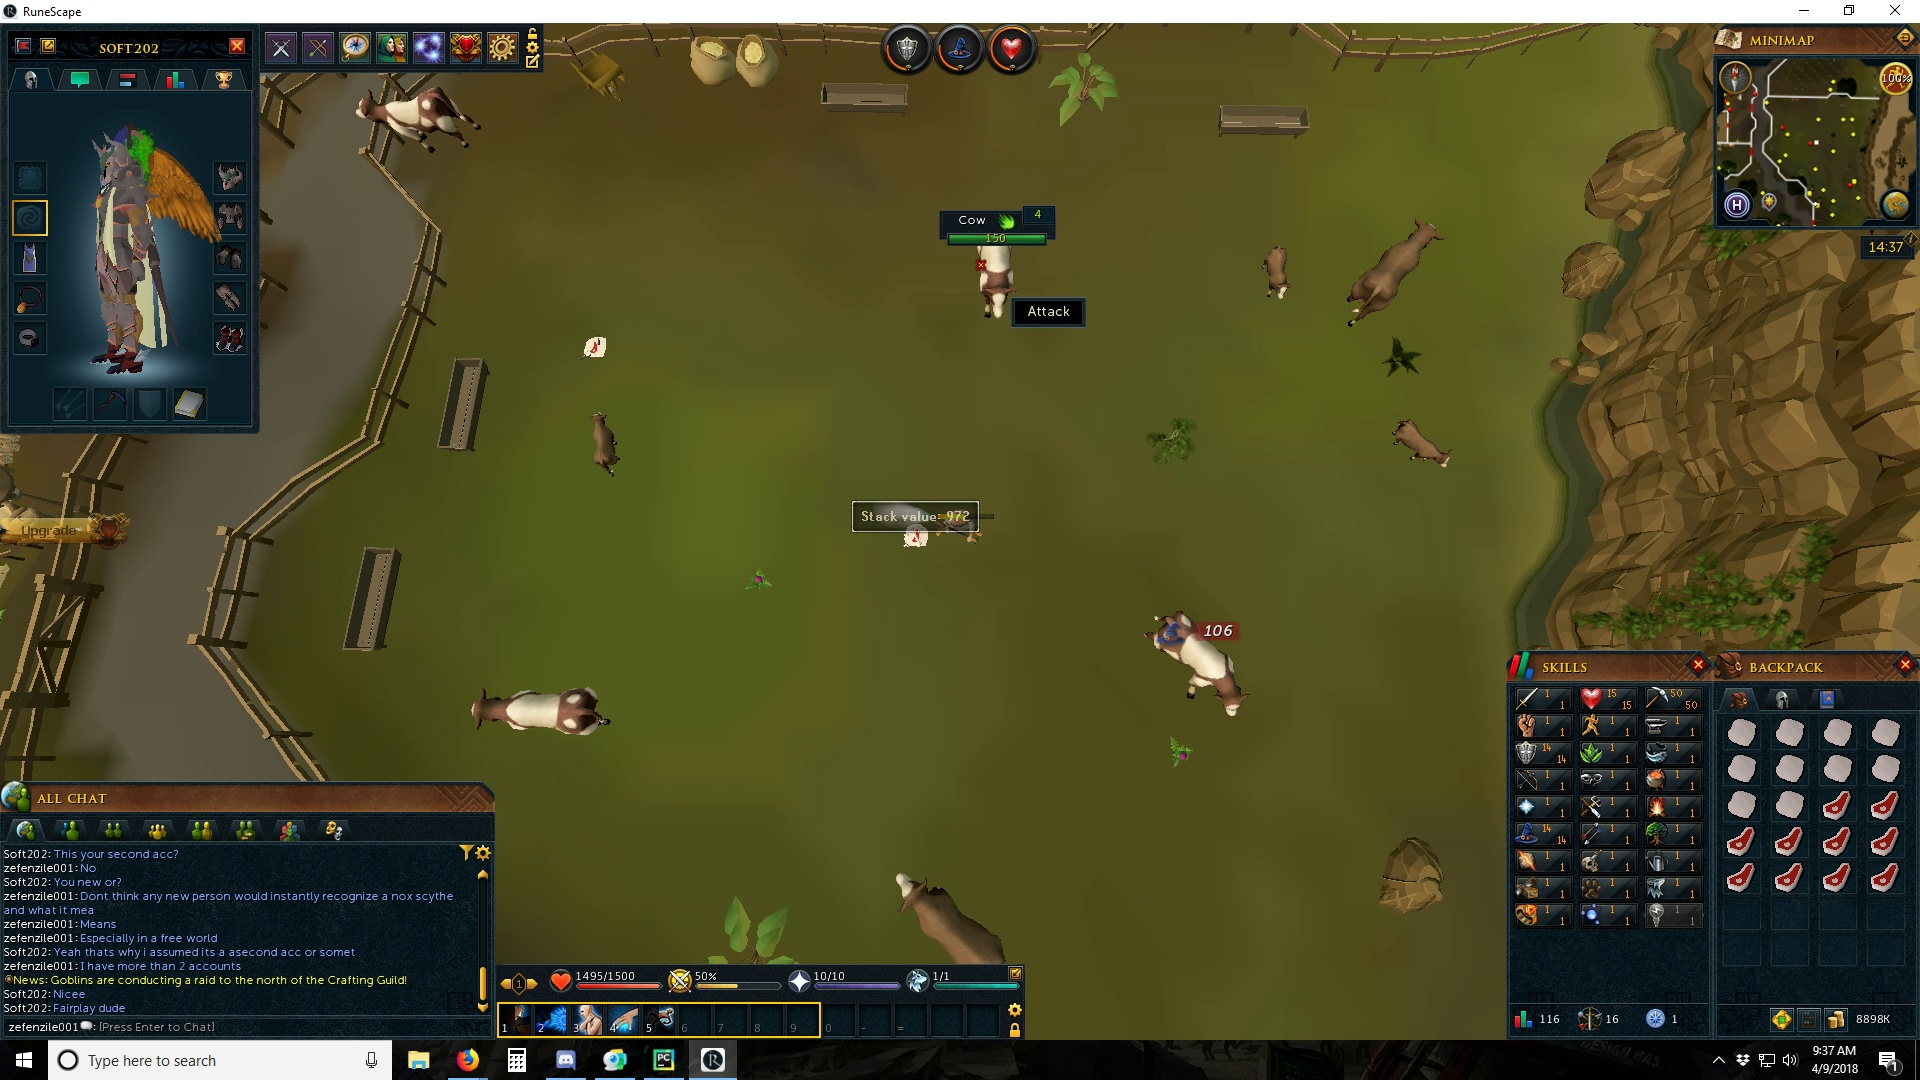calf: (1393, 415, 1458, 473), (587, 407, 626, 479), (1261, 244, 1292, 303)
cow: (1139, 615, 1247, 721), (1342, 215, 1444, 328), (894, 872, 1007, 964), (349, 87, 484, 150), (464, 680, 613, 737), (975, 244, 1015, 328)
cow_drop: (895, 526, 932, 555), (582, 334, 608, 359)
